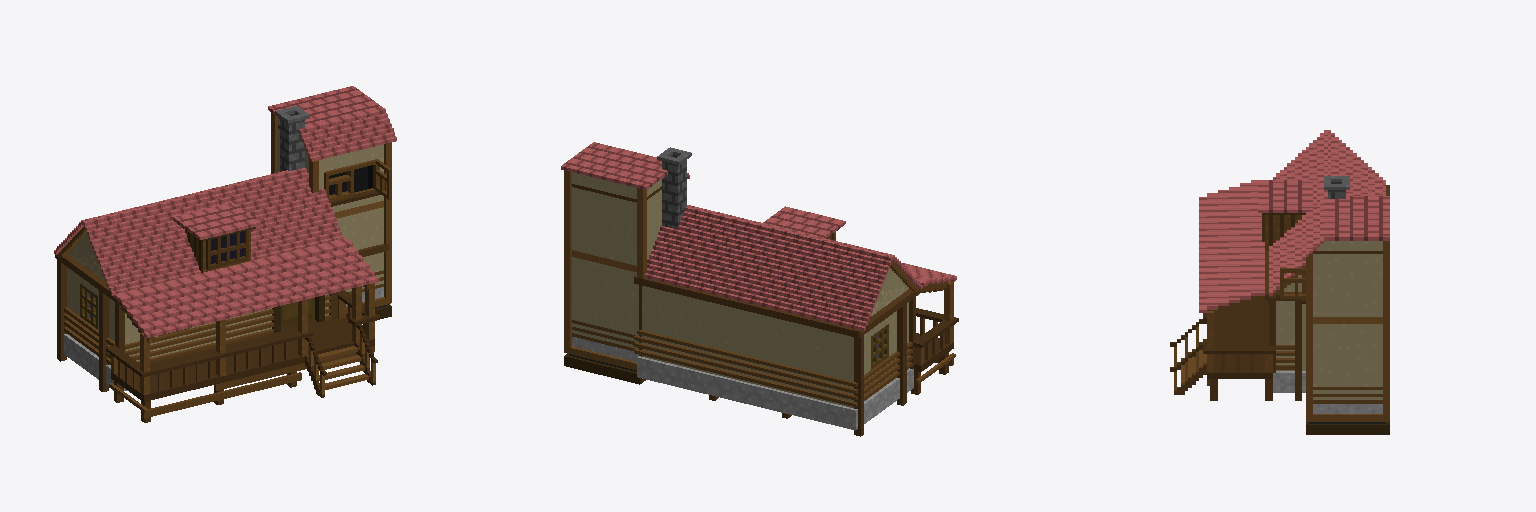
3 views of the same model, side by side, from view 1: azimuth 30°, elevation 25°; view 2: azimuth 150°, elevation 25°; view 3: azimuth 270°, elevation 25° (orthographic).
Parts seen in each view (by area): view 1: object 1; view 2: object 1; view 3: object 1.
Boxes of the visible parts, x1=… form: object 1: x1=54, y1=86, x2=396, y2=422; object 1: x1=561, y1=142, x2=958, y2=436; object 1: x1=1170, y1=130, x2=1389, y2=434.
Size of the model in its own units: 9.6 by 6.4 by 6.
Materials: 1 (1 with a texture image).